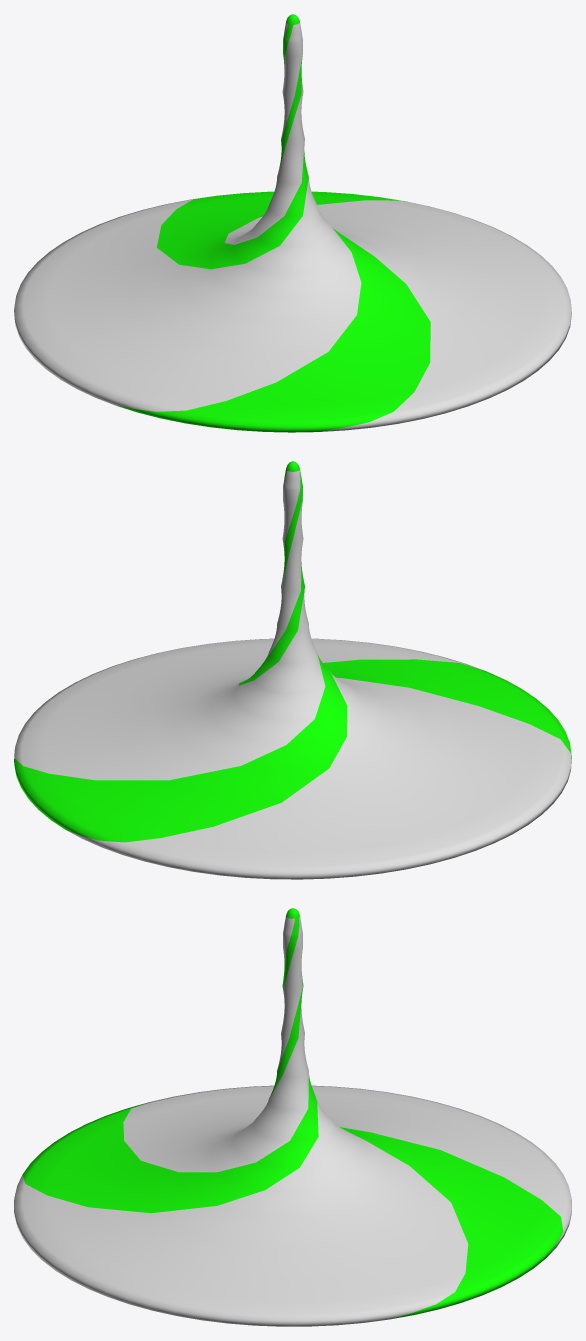
The model's file is spinner.gltf.
3 views of the same model, one above another, from view 1: azimuth 30°, elevation 25°; view 2: azimuth 150°, elevation 25°; view 3: azimuth 270°, elevation 25° (orthographic).
Visible parts, largest first — view 1: Sphere; view 2: Sphere; view 3: Sphere.
Boxes of the visible parts, x1,y1,x2,y2 form: Sphere: [14, 14, 571, 432]; Sphere: [14, 461, 571, 879]; Sphere: [14, 908, 571, 1326].
Size of the model in its own units: 2.51 by 1.95 by 2.51.
